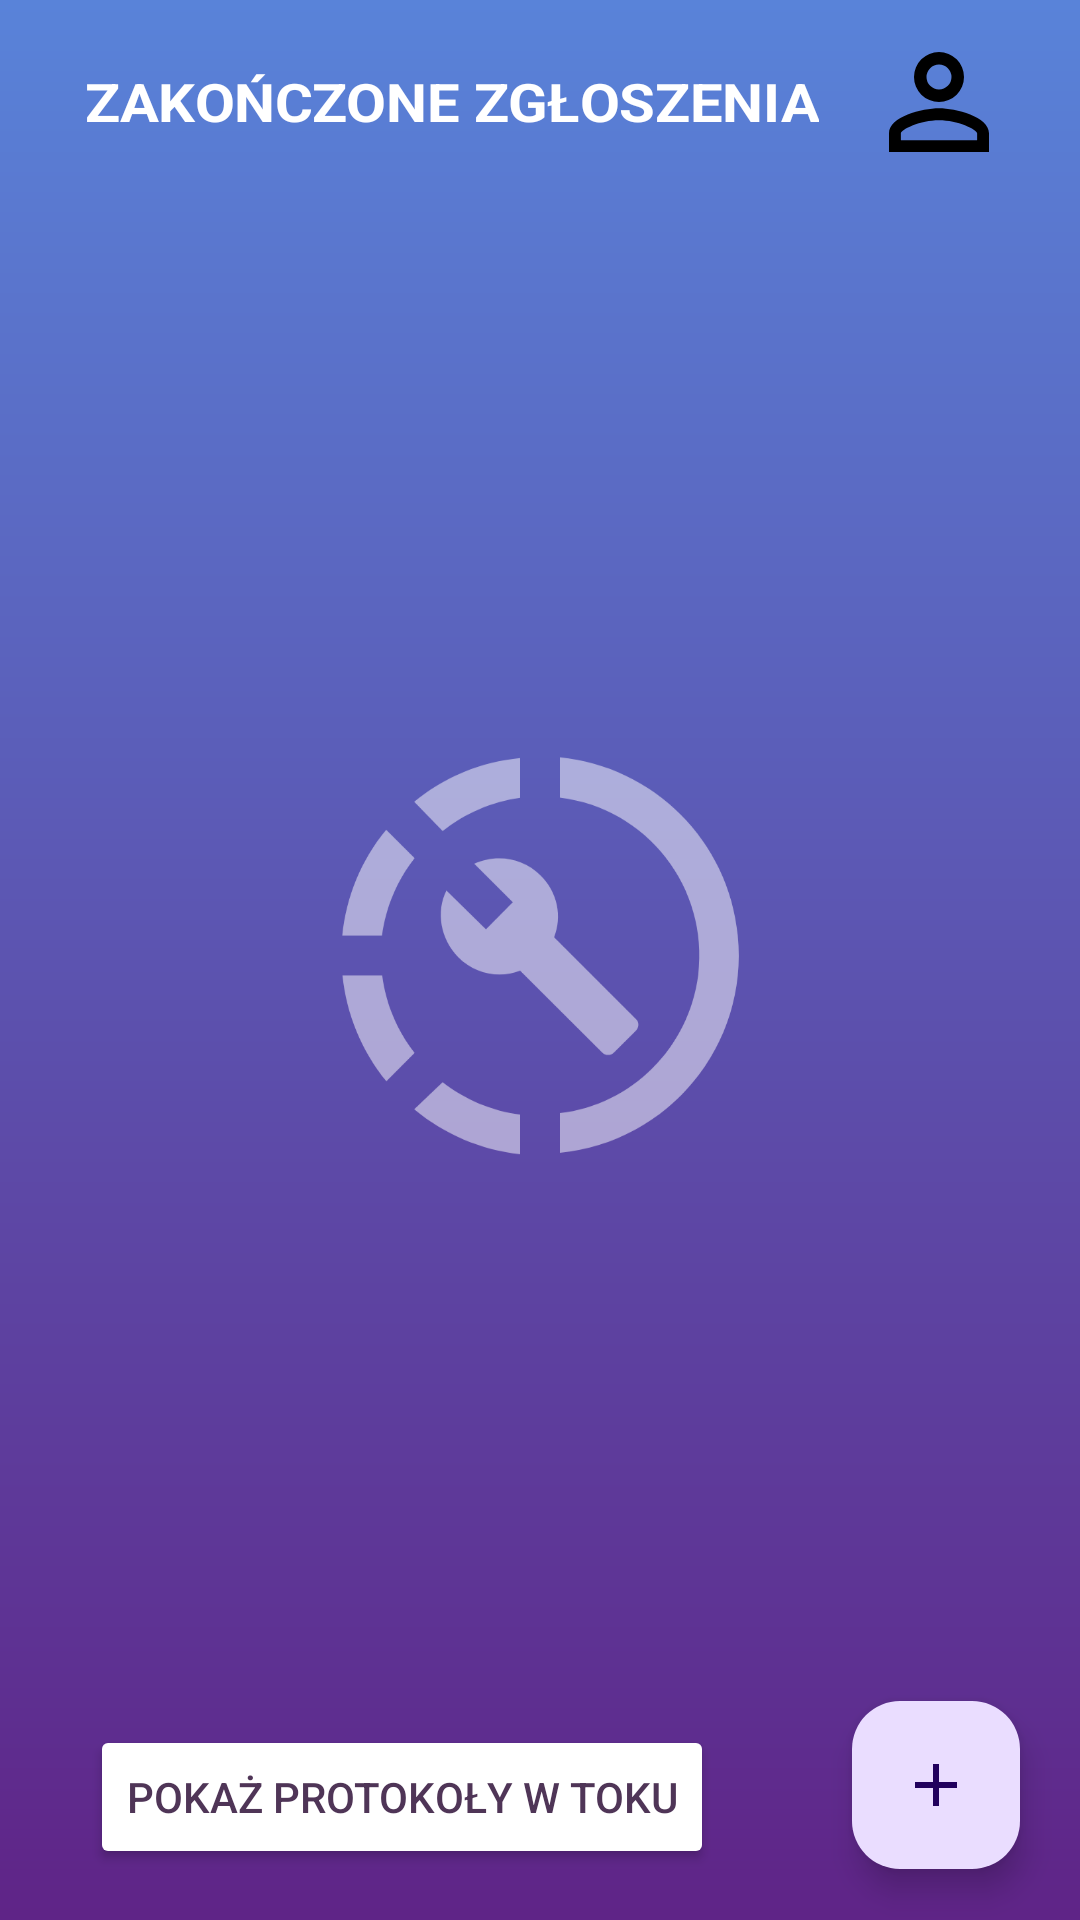

Locate icon controls on the screen. Image size 1080px x 1920px, boxes as (x1,y1,x2,y2).
account: (889,52,989,152)
add: (852,1701,1020,1869)
